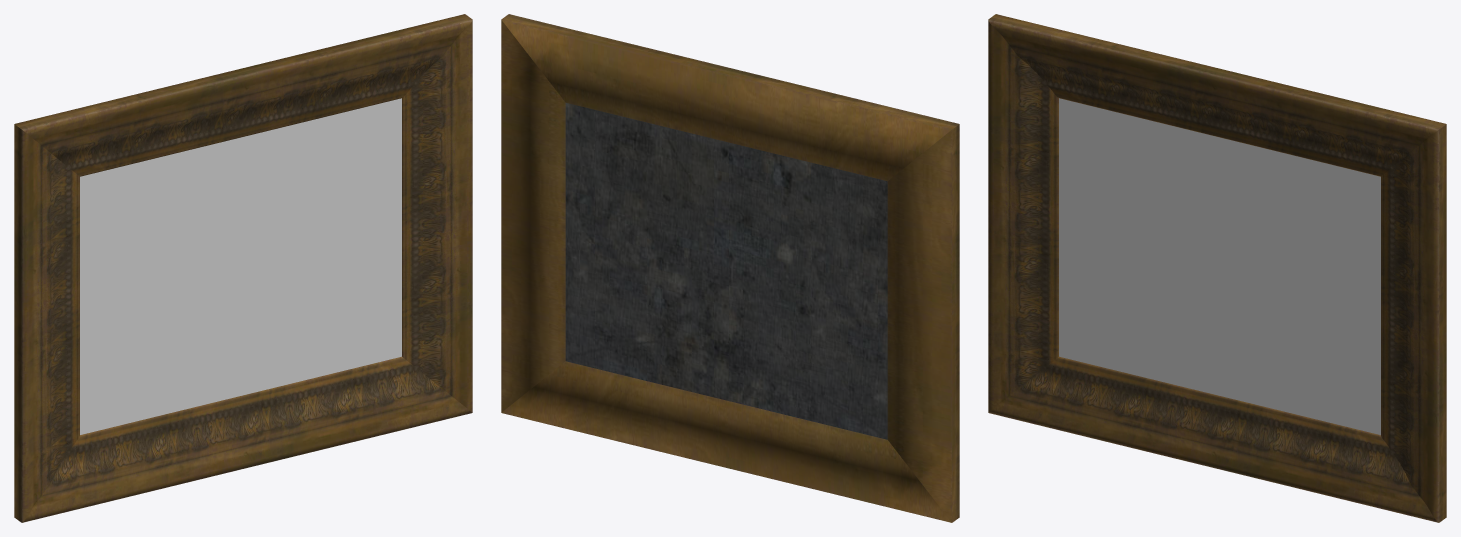
The model's file is painting_frame.glb.
The picture shows the model from 3 angles, left to right: view 1: azimuth 30°, elevation 25°; view 2: azimuth 150°, elevation 25°; view 3: azimuth 330°, elevation 25°; orthographic projection.
Parts seen in each view (by area): view 1: SM_PaintingMilton; view 2: SM_PaintingMilton; view 3: SM_PaintingMilton.
Boxes of the visible parts, x1,y1,x2,y2 form: SM_PaintingMilton: [14, 14, 472, 522]; SM_PaintingMilton: [501, 14, 959, 522]; SM_PaintingMilton: [988, 14, 1446, 522].
Bounding box in the file's own units: 162 × 135 × 5.12.
Materials: 2 (1 with a texture image).
